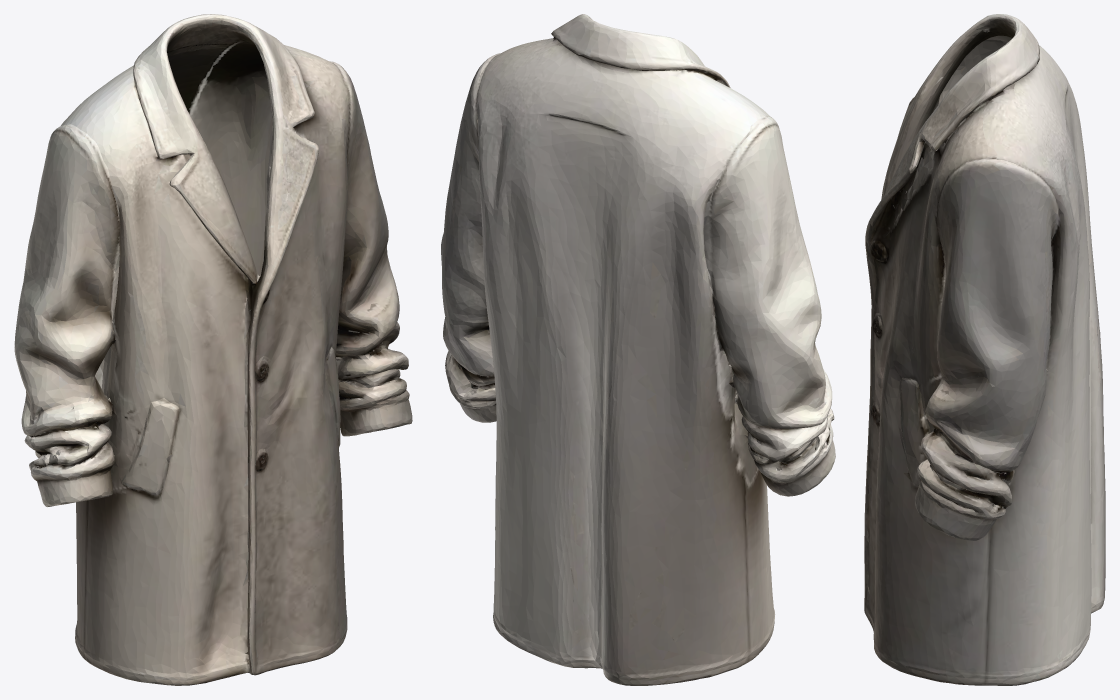
The model's file is coat.glb.
The picture shows the model from 3 angles, left to right: view 1: azimuth 30°, elevation 25°; view 2: azimuth 150°, elevation 25°; view 3: azimuth 270°, elevation 25°; orthographic projection. The views are drawn at different scales.
Visible parts, largest first — view 1: world; view 2: world; view 3: world.
Part boxes in pixels (<box>): world: <box>14,14,412,685</box>; world: <box>441,14,835,685</box>; world: <box>864,14,1105,685</box>.
Bounding box in the file's own units: 1.28 × 1.99 × 0.7214.
1 material, 1 textured.
